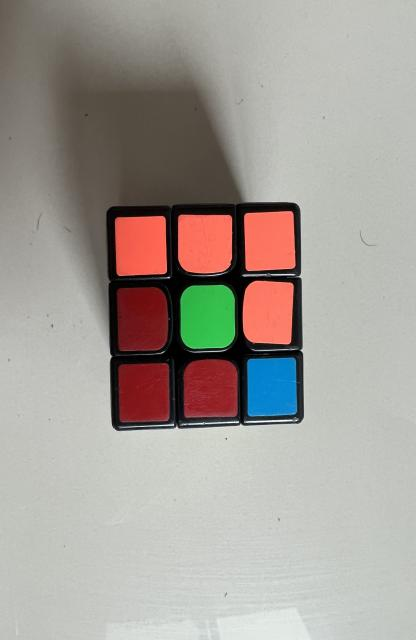Blue: (247, 358, 297, 416)
Green: (180, 285, 235, 349)
Orange: (178, 215, 233, 274), (243, 281, 294, 344), (115, 216, 167, 276), (244, 211, 296, 271)
Red: (117, 288, 168, 351), (184, 359, 238, 418), (118, 362, 170, 422)
